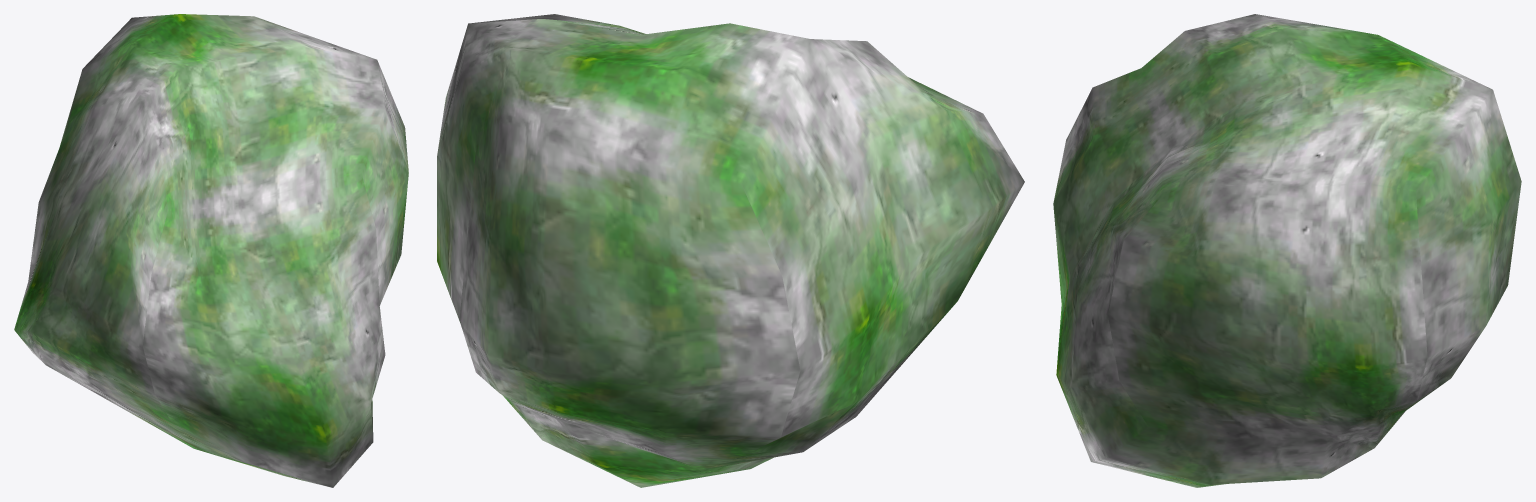
Rendered from INST_HTOWN_ROCKA.fbx.
3 views of the same model, side by side, from view 1: azimuth 30°, elevation 25°; view 2: azimuth 150°, elevation 25°; view 3: azimuth 270°, elevation 25° (orthographic). The views are drawn at different scales.
Parts seen in each view (by area): view 1: INST_HTOWN_ROCKA; view 2: INST_HTOWN_ROCKA; view 3: INST_HTOWN_ROCKA.
Part boxes in pixels (x1,y1,x2,y2): INST_HTOWN_ROCKA: [14, 14, 408, 487]; INST_HTOWN_ROCKA: [437, 14, 1024, 487]; INST_HTOWN_ROCKA: [1053, 14, 1521, 487].
Bounding box in the file's own units: 21252 × 21252 × 21252.
1 material, 1 textured.
